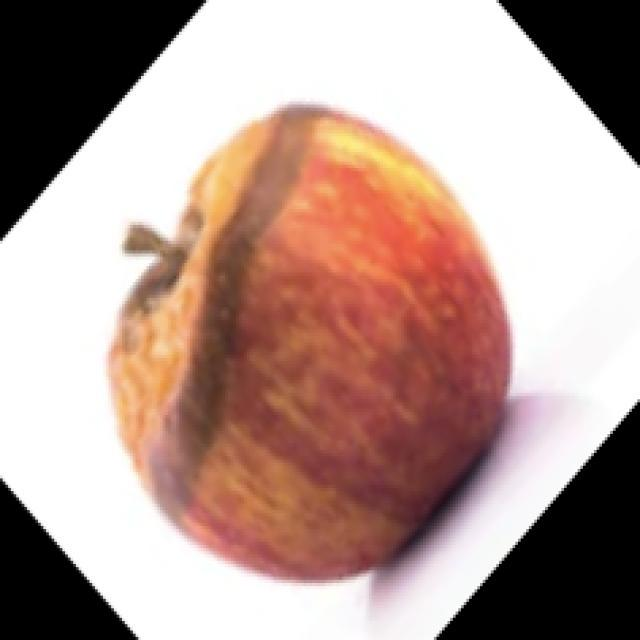Rotten: (110, 109, 535, 584)
